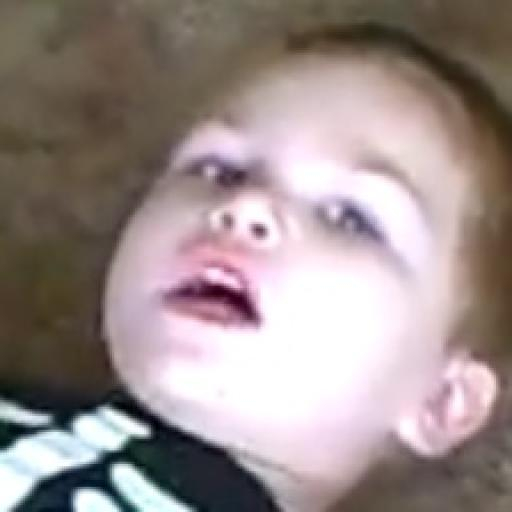Autism: (80, 4, 512, 494)
